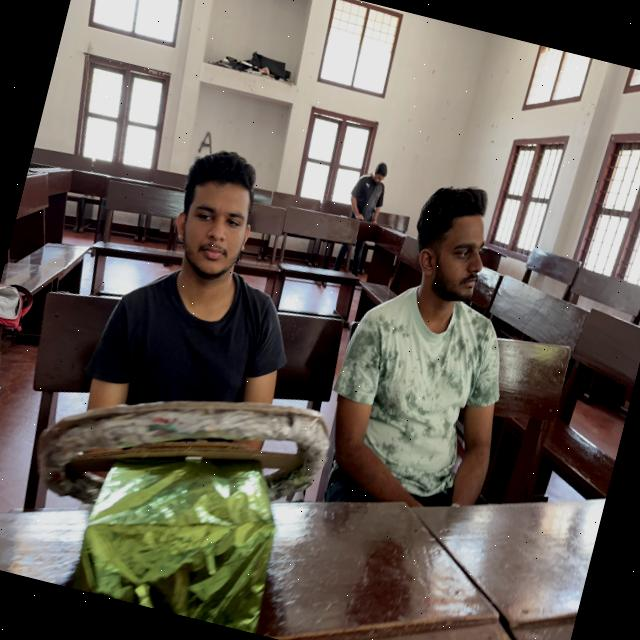no-seatbelt: (65, 253, 308, 522), (310, 278, 528, 531)
